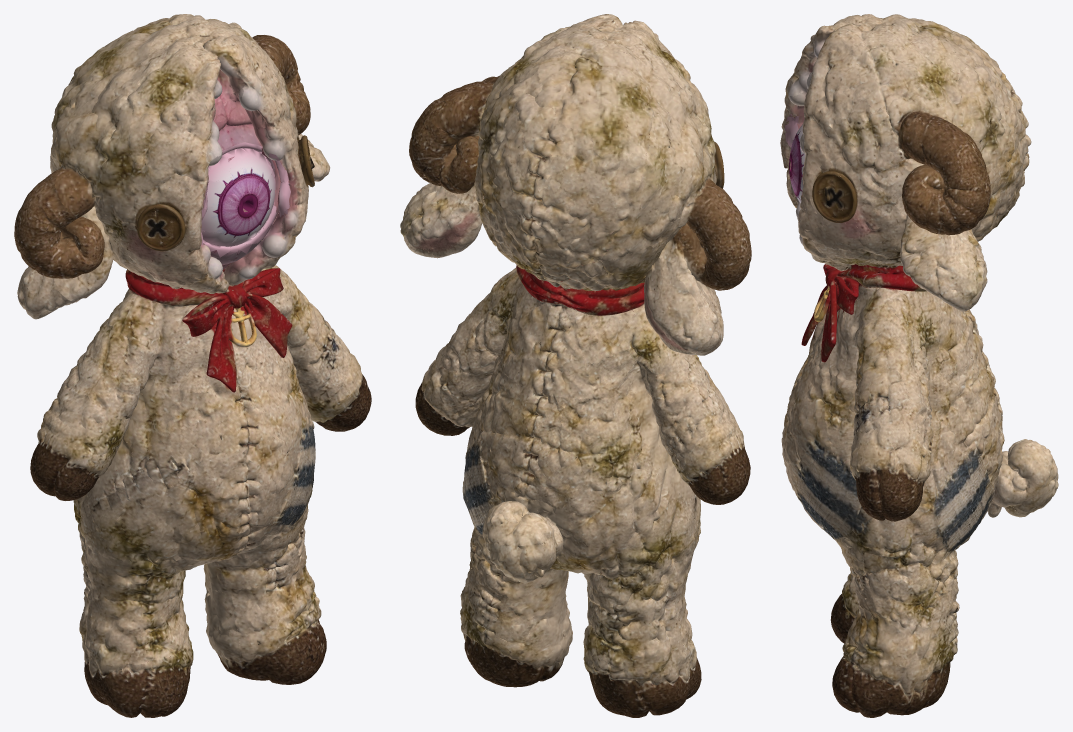
Rendered from agnello_occhio.glb.
The picture shows the model from 3 angles, left to right: view 1: azimuth 30°, elevation 25°; view 2: azimuth 150°, elevation 25°; view 3: azimuth 270°, elevation 25°; orthographic projection. The views are drawn at different scales.
Visible parts, largest first — view 1: agnello_occhio.001, occhio_bulbo; view 2: agnello_occhio.001; view 3: agnello_occhio.001, occhio_bulbo.
Part boxes in pixels (x1,y1,x2,y2): agnello_occhio.001: [14, 14, 371, 717]; occhio_bulbo: [201, 142, 290, 257]; agnello_occhio.001: [400, 14, 751, 717]; agnello_occhio.001: [780, 14, 1058, 717]; occhio_bulbo: [784, 114, 805, 202].
Size of the model in its own units: 0.6422 by 1.2 by 0.4687.
2 materials, 2 textured.
